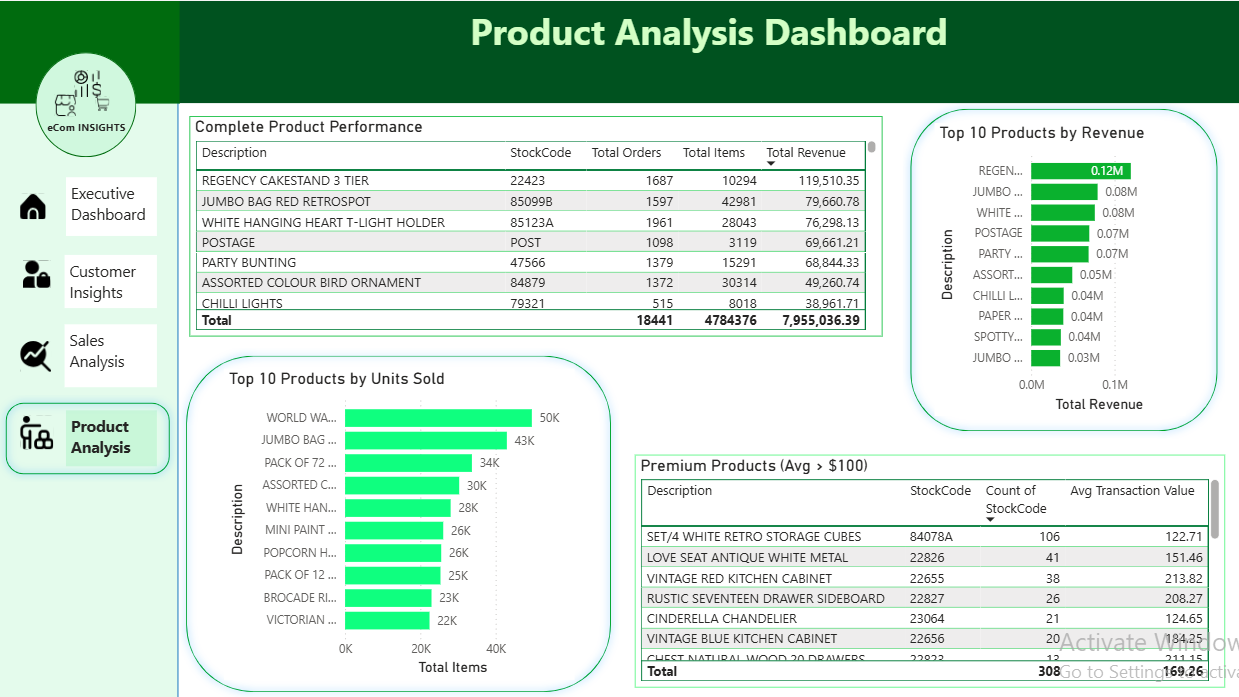

What the dashboard file says about the page in this screenshot:
{"tool":"powerbi","page":{"name":"Page 4","canvas":[1280,720],"ordinal":3},"visuals":[{"type":"shape","box":[932.2,102.6,332.4,348.3],"z":0},{"type":"shape","box":[186.4,357,453.8,362.8],"z":1000},{"type":"shape","box":[0,0,186,720],"z":2000},{"type":"textbox","box":[186.4,0,1094.1,105.5],"z":3000},{"type":"actionButton","box":[18.9,194.4,47.8,34.4],"z":4000},{"type":"actionButton","box":[21.2,261.2,36.2,40],"z":5000},{"type":"actionButton","box":[18,338,40,58],"z":6000},{"type":"actionButton","box":[18.8,422.5,42.5,46.2],"z":7000},{"type":"textbox","box":[69.4,182.1,93.9,60.7],"z":8000},{"type":"textbox","box":[68.8,261.2,95,55],"z":9000},{"type":"textbox","box":[68.8,332.5,95,65],"z":10000},{"type":"textbox","box":[69.4,422,93.9,57.8],"z":11000},{"type":"clusteredBarChart","title":"Top 10 Products by Revenue","fields":{"Category":["public transactions.Description"],"Y":["public transactions.Total Revenue"]},"box":[965.5,125.7,258.7,302.1],"z":12000},{"type":"clusteredBarChart","title":"Top 10 Products by Units Sold","fields":{"Category":["public transactions.Description"],"Y":["public transactions.Total Items"]},"box":[232.7,378.7,361.3,320.9],"z":13000},{"type":"tableEx","title":"Premium Products (Avg > $100)","fields":{"Values":["public transactions.Description","public transactions.StockCode","CountNonNull(public transactions.StockCode)","public transactions.Avg Transaction Value"]},"box":[656.2,468.3,608.5,239.9],"z":14000},{"type":"tableEx","title":"Complete Product Performance","fields":{"Values":["public transactions.Description","public transactions.StockCode","public transactions.Total Orders","public transactions.Total Items","public transactions.Total Revenue"]},"box":[198,118.5,714,226.9],"z":15000},{"type":"shape","box":[0,0,187.1,105.7],"z":16000},{"type":"shape","box":[38,53,104,108],"z":17000},{"type":"actionButton","box":[54,90,30,35],"z":18000},{"type":"actionButton","box":[96,95,40,23],"z":19000},{"type":"actionButton","box":[75,67,78,36],"z":20000},{"type":"textbox","box":[46,115,139,30],"z":21000},{"type":"shape","box":[0,406.1,185,89.6],"z":22000}]}

Visuals, with their boxes on the page's 1280x720 design canvas (x1, y1, x2, y2). These are canvas units, not pixel positions in the 1239x697 screenshot, which may show the page scaled, cropped or inside an application window:
shape: 932, 103, 1265, 451
shape: 186, 357, 640, 720
shape: 0, 0, 186, 720
textbox: 186, 0, 1280, 106
actionButton: 19, 194, 67, 229
actionButton: 21, 261, 57, 301
actionButton: 18, 338, 58, 396
actionButton: 19, 422, 61, 469
textbox: 69, 182, 163, 243
textbox: 69, 261, 164, 316
textbox: 69, 332, 164, 398
textbox: 69, 422, 163, 480
"Top 10 Products by Revenue" clusteredBarChart: 966, 126, 1224, 428
"Top 10 Products by Units Sold" clusteredBarChart: 233, 379, 594, 700
"Premium Products (Avg > $100)" tableEx: 656, 468, 1265, 708
"Complete Product Performance" tableEx: 198, 118, 912, 345
shape: 0, 0, 187, 106
shape: 38, 53, 142, 161
actionButton: 54, 90, 84, 125
actionButton: 96, 95, 136, 118
actionButton: 75, 67, 153, 103
textbox: 46, 115, 185, 145
shape: 0, 406, 185, 496
